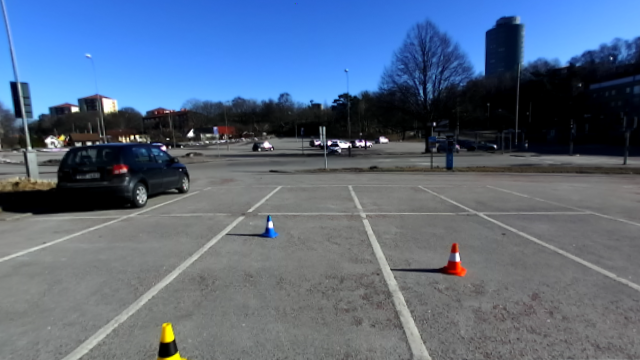blue: (260, 215, 279, 239)
orange: (439, 244, 468, 278)
